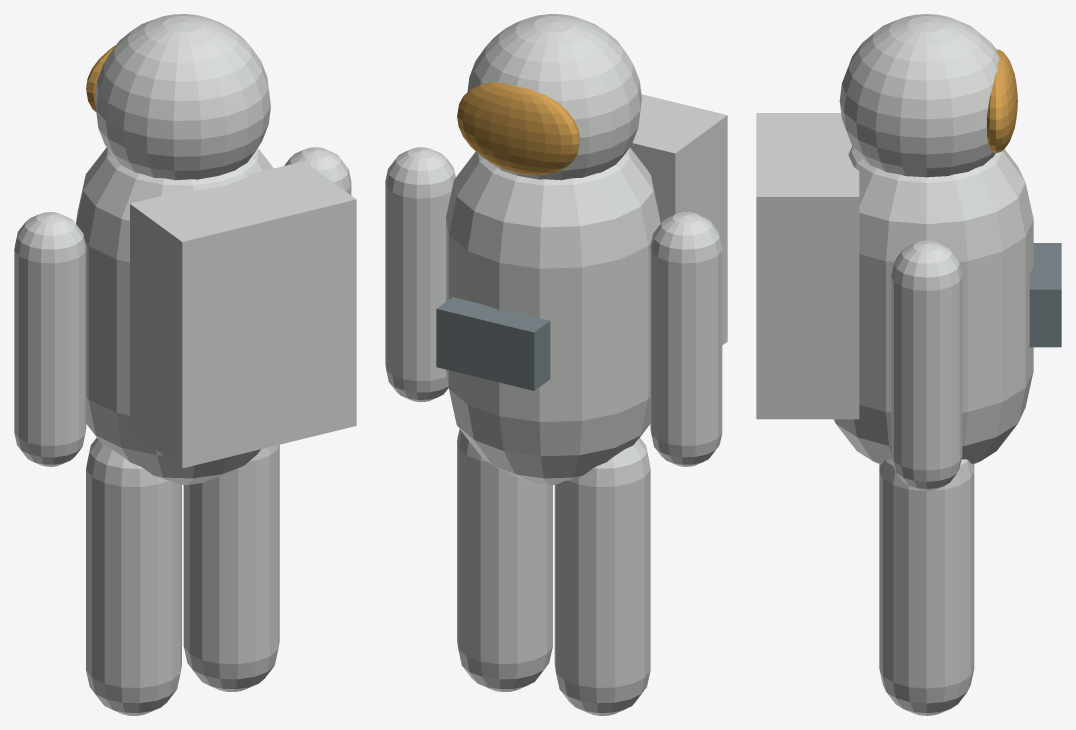
Rendered from current_astronaut.glb.
3 views of the same model, side by side, from view 1: azimuth 30°, elevation 25°; view 2: azimuth 150°, elevation 25°; view 3: azimuth 270°, elevation 25° (orthographic).
Parts seen in each view (by area): view 1: Current_Backpack, Current_Helmet, Current_LegShell_L_Center, Current_LegShell_R_Center, Current_ArmShell_L_Center, Current_Torso_Top, Current_Torso_Center, Current_Torso_Bottom, Current_ArmShell_L_Top, Current_LegShell_R_Bottom, Current_LegShell_L_Bottom, Current_LegShell_L_Top (+2 smaller); view 2: Current_Torso_Center, Current_LegShell_L_Center, Current_Torso_Top, Current_LegShell_R_Center, Current_Helmet, Current_ArmShell_L_Center, Current_ArmShell_R_Center, Current_Backpack, Current_Torso_Bottom, Current_Visor, Current_ChestPanel, Current_ArmShell_L_Top (+6 smaller); view 3: Current_Backpack, Current_Helmet, Current_LegShell_R_Center, Current_Torso_Center, Current_Torso_Top, Current_ArmShell_R_Center, Current_Torso_Bottom, Current_ChestPanel, Current_ArmShell_R_Top, Current_Visor, Current_LegShell_R_Bottom, Current_ArmShell_R_Bottom (+1 smaller).
Boxes of the visible parts, x1,y1,x2,y2 form: Current_Backpack: (130, 161, 356, 468); Current_Helmet: (94, 14, 270, 180); Current_LegShell_L_Center: (86, 470, 181, 687); Current_LegShell_R_Center: (183, 444, 279, 663); Current_ArmShell_L_Center: (14, 246, 86, 445); Current_Torso_Top: (76, 147, 273, 262); Current_Torso_Center: (85, 242, 129, 415); Current_Torso_Bottom: (86, 397, 260, 484); Current_ArmShell_L_Top: (14, 212, 85, 263); Current_LegShell_R_Bottom: (184, 647, 278, 691); Current_LegShell_L_Bottom: (86, 671, 180, 715); Current_LegShell_L_Top: (86, 437, 168, 486); Current_Torso_Center: (446, 218, 651, 421); Current_LegShell_L_Center: (554, 470, 650, 687); Current_Torso_Top: (446, 147, 660, 268); Current_LegShell_R_Center: (457, 441, 552, 663); Current_Helmet: (467, 14, 641, 180); Current_ArmShell_L_Center: (650, 246, 722, 445); Current_ArmShell_R_Center: (385, 183, 451, 381); Current_Backpack: (630, 94, 727, 345); Current_Torso_Bottom: (449, 389, 650, 484); Current_Visor: (457, 82, 579, 174); Current_ChestPanel: (436, 297, 550, 390); Current_ArmShell_L_Top: (650, 212, 722, 263); Current_Backpack: (756, 113, 859, 419); Current_Helmet: (839, 14, 999, 177); Current_LegShell_R_Center: (879, 471, 974, 688); Current_Torso_Center: (859, 220, 1033, 412); Current_Torso_Top: (848, 146, 1033, 261); Current_ArmShell_R_Center: (891, 277, 962, 470); Current_Torso_Bottom: (833, 371, 1033, 464); Current_ChestPanel: (1029, 243, 1061, 347); Current_ArmShell_R_Top: (891, 240, 962, 290); Current_Visor: (986, 49, 1017, 152); Current_LegShell_R_Bottom: (879, 669, 973, 715); Current_ArmShell_R_Bottom: (891, 456, 962, 490).
Bounding box in the file's own units: 0.94 × 1.85 × 0.77.
